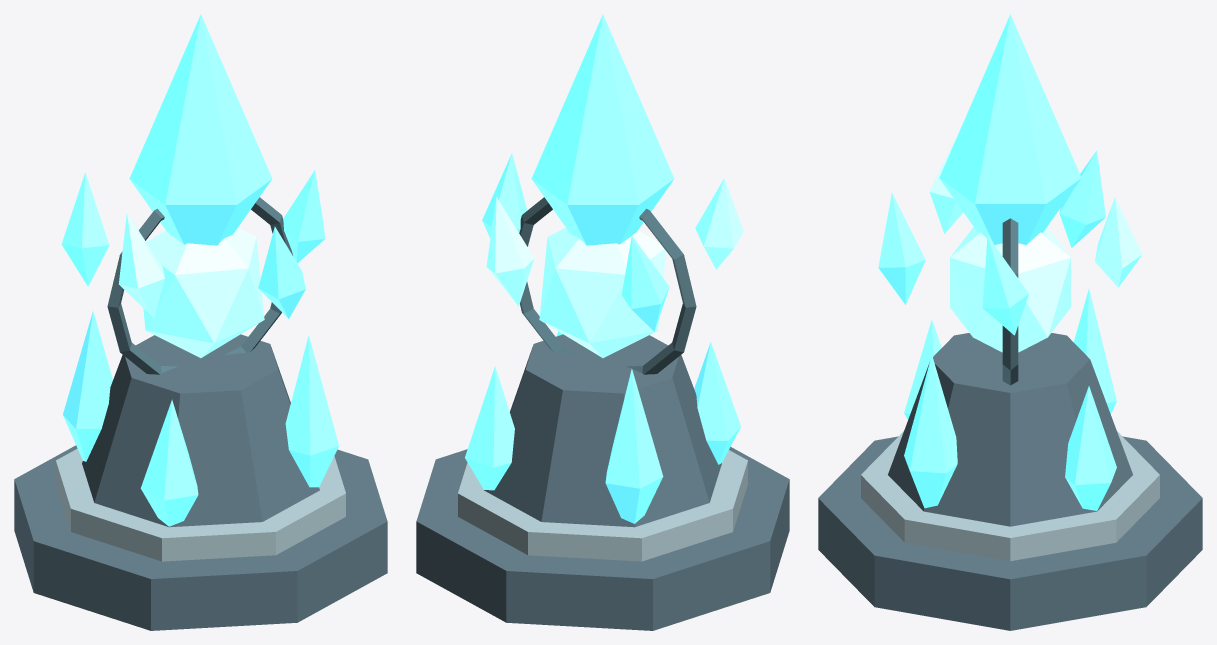
File: tower-frost.glb
3 renders of one model, left to right at view 1: azimuth 30°, elevation 25°; view 2: azimuth 150°, elevation 25°; view 3: azimuth 270°, elevation 25°, orthographic.
Parts seen in each view (by area): view 1: FrostBase, SlatePlinth, CrownSpire, SnowStep, FrostCore, GroundShard3, GroundShard2, GroundShard1, CoreBand, OrbitShard2, OrbitShard3, OrbitShard4 (+1 smaller); view 2: FrostBase, SlatePlinth, CrownSpire, SnowStep, FrostCore, GroundShard1, CoreBand, GroundShard0, GroundShard2, OrbitShard1, OrbitShard2, OrbitShard3 (+1 smaller); view 3: FrostBase, SlatePlinth, CrownSpire, SnowStep, FrostCore, GroundShard3, GroundShard0, OrbitShard4, OrbitShard0, OrbitShard2, OrbitShard1, GroundShard1 (+3 smaller).
Boxes of the visible parts, bbox=[...] form: FrostBase: bbox=[14, 445, 387, 630]; SlatePlinth: bbox=[82, 334, 319, 527]; CrownSpire: bbox=[129, 14, 272, 245]; SnowStep: bbox=[56, 448, 345, 561]; FrostCore: bbox=[143, 228, 264, 357]; GroundShard3: bbox=[285, 335, 338, 487]; GroundShard2: bbox=[140, 399, 198, 526]; GroundShard1: bbox=[63, 311, 112, 461]; CoreBand: bbox=[107, 197, 292, 374]; OrbitShard2: bbox=[61, 172, 109, 286]; OrbitShard3: bbox=[119, 213, 164, 317]; OrbitShard4: bbox=[258, 226, 305, 318]; FrostBase: bbox=[416, 446, 789, 630]; SlatePlinth: bbox=[484, 334, 721, 527]; CrownSpire: bbox=[531, 14, 674, 245]; SnowStep: bbox=[458, 450, 747, 561]; FrostCore: bbox=[539, 228, 666, 357]; GroundShard1: bbox=[605, 368, 663, 523]; CoreBand: bbox=[519, 197, 696, 374]; GroundShard0: bbox=[465, 366, 514, 490]; GroundShard2: bbox=[694, 342, 740, 464]; OrbitShard1: bbox=[486, 197, 534, 306]; OrbitShard2: bbox=[621, 236, 669, 331]; OrbitShard3: bbox=[695, 178, 743, 269]; FrostBase: bbox=[818, 436, 1202, 630]; SlatePlinth: bbox=[888, 333, 1132, 526]; CrownSpire: bbox=[939, 14, 1081, 245]; SnowStep: bbox=[861, 431, 1159, 561]; FrostCore: bbox=[950, 227, 1070, 352]; GroundShard3: bbox=[904, 355, 957, 508]; GroundShard0: bbox=[1065, 386, 1116, 510]; OrbitShard4: bbox=[878, 193, 925, 304]; OrbitShard0: bbox=[982, 235, 1028, 335]; OrbitShard2: bbox=[1059, 150, 1105, 247]; OrbitShard1: bbox=[1095, 197, 1142, 287]; GroundShard1: bbox=[1073, 288, 1116, 413].
Size of the model in its own units: 2.7 by 4.15 by 2.7.
